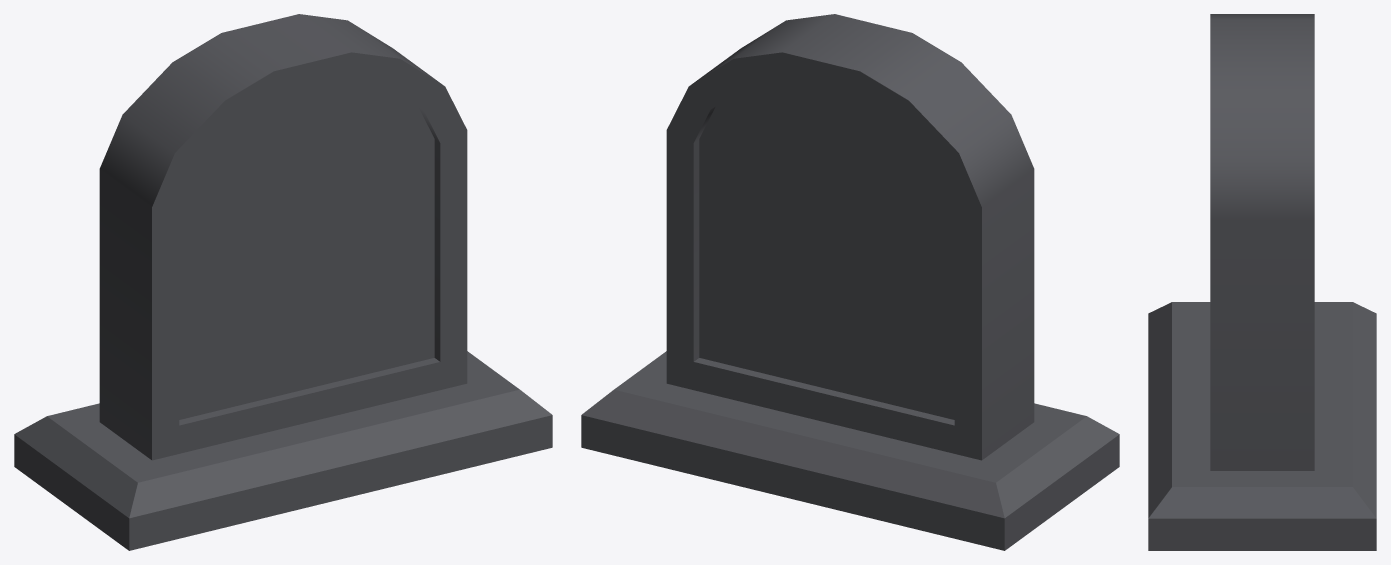
Rendered from Tombstone_1.fbx.
3 renders of one model, left to right at view 1: azimuth 30°, elevation 25°; view 2: azimuth 150°, elevation 25°; view 3: azimuth 270°, elevation 25°, orthographic.
Parts seen in each view (by area): view 1: Tombstone1; view 2: Tombstone1; view 3: Tombstone1.
Part boxes in pixels (x1=…): Tombstone1: x1=14, y1=14, x2=552, y2=550; Tombstone1: x1=581, y1=14, x2=1119, y2=550; Tombstone1: x1=1148, y1=14, x2=1376, y2=550.
Size of the model in its own units: 1.56 by 1.46 by 0.7354.
